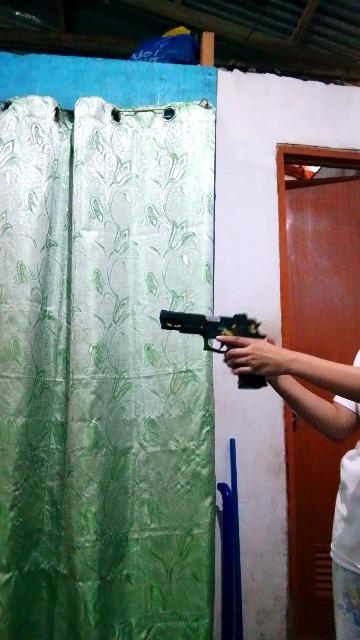pistol: (153, 288, 280, 396)
